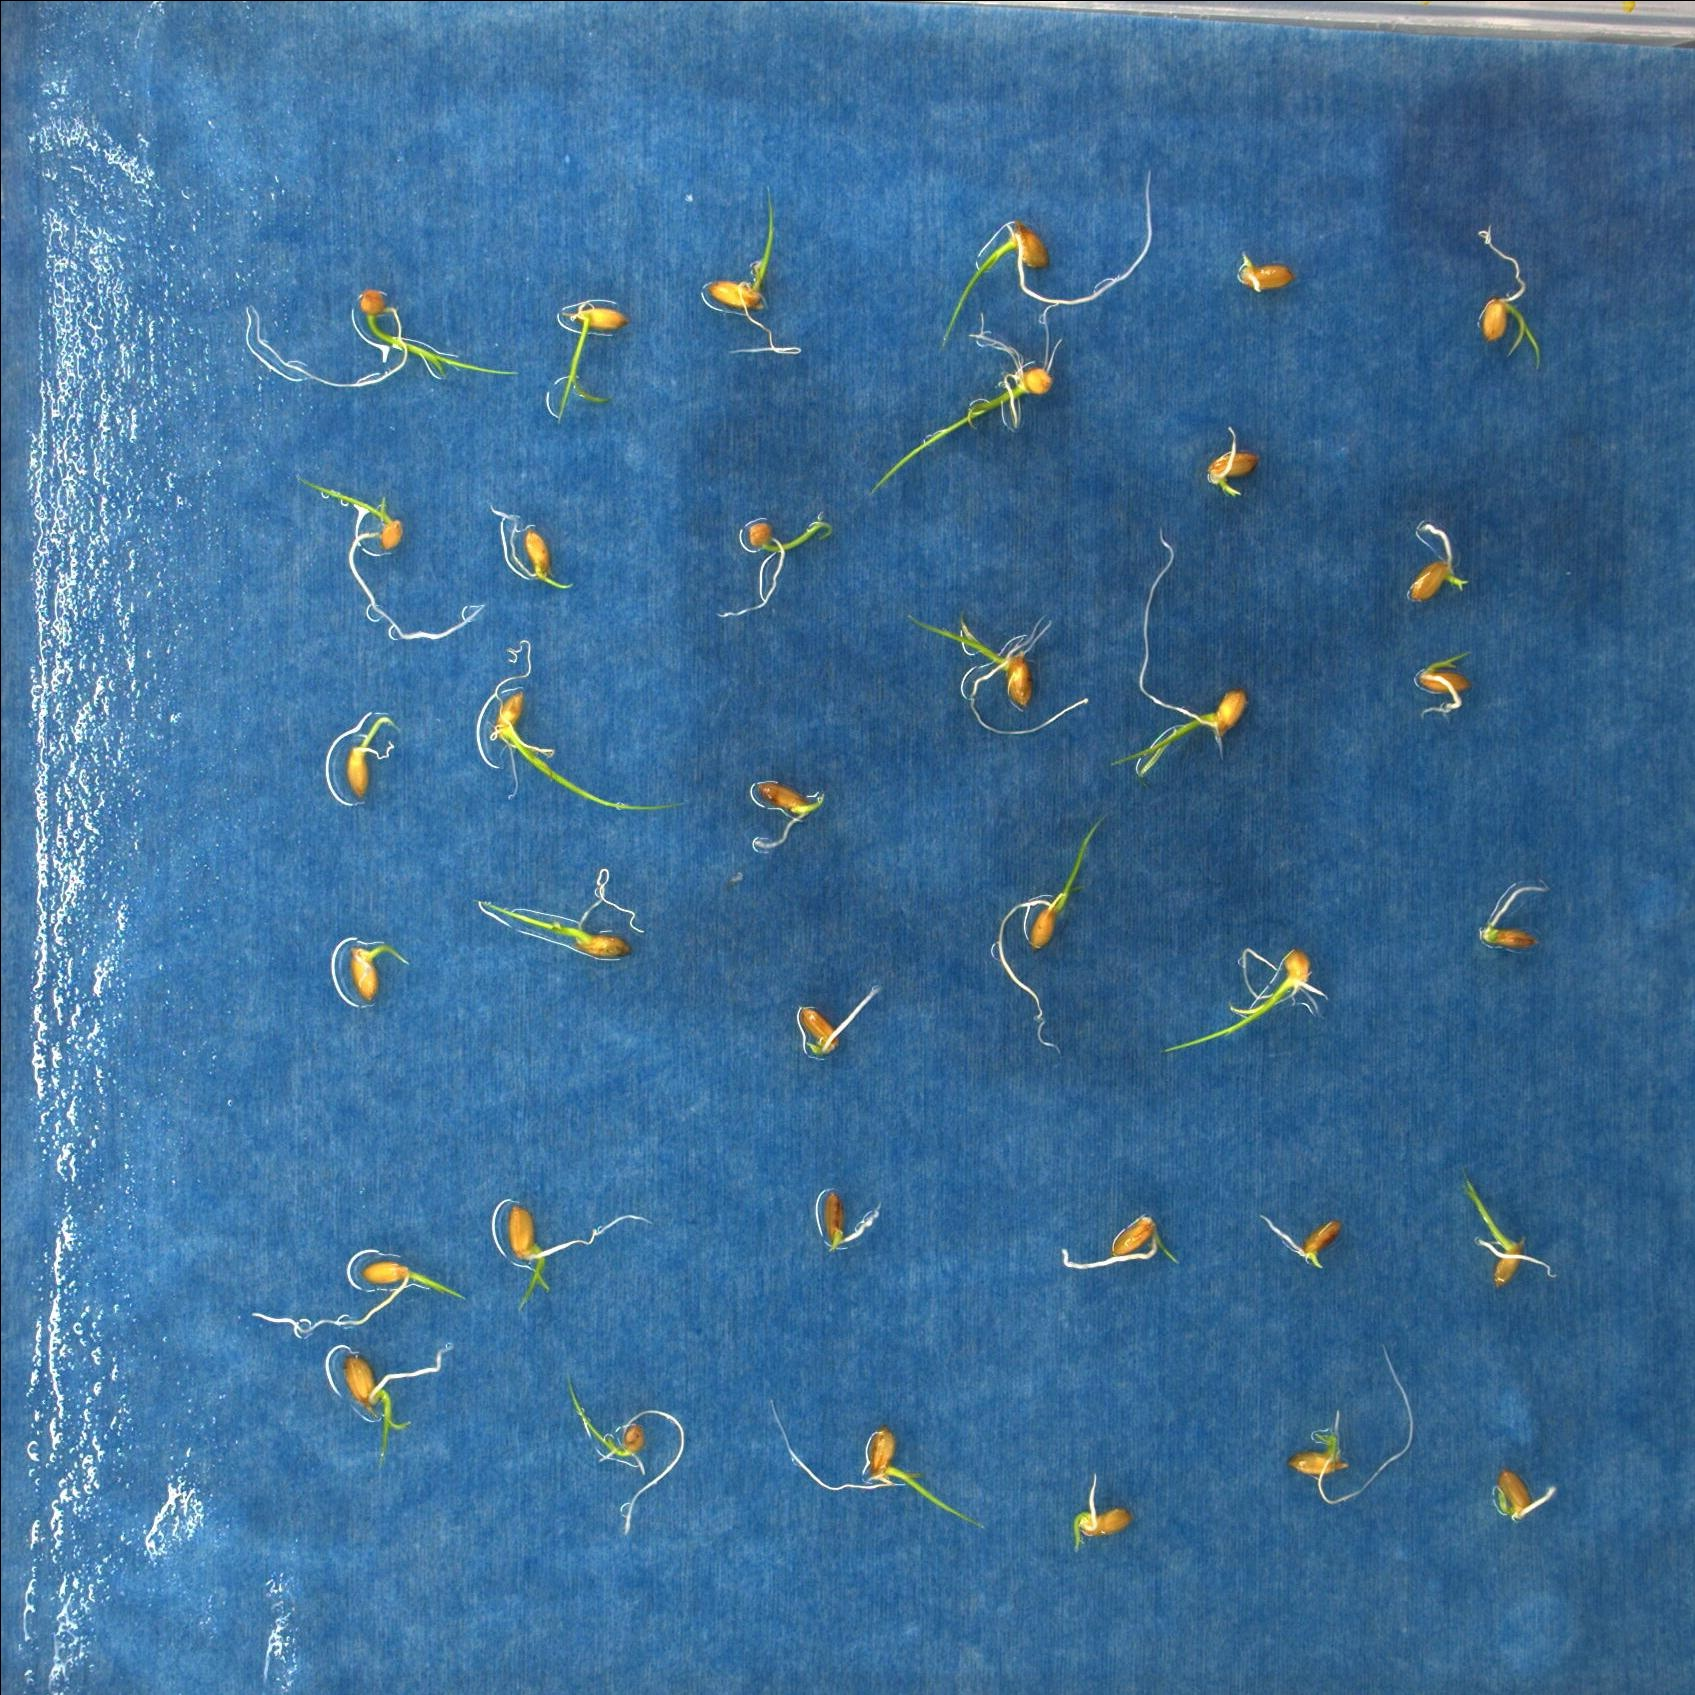not sprout: (1256, 1215, 1346, 1270), (818, 1187, 852, 1256), (1236, 255, 1291, 290)
sprout: (931, 165, 1163, 354), (868, 301, 1069, 498), (477, 636, 692, 812), (289, 467, 489, 647), (1111, 525, 1251, 782), (764, 1394, 992, 1537), (986, 810, 1108, 1052), (237, 289, 523, 390), (906, 608, 1093, 745), (1288, 1343, 1419, 1507), (560, 1372, 689, 1537), (695, 182, 806, 363), (248, 1250, 467, 1338), (1159, 945, 1330, 1055), (504, 1200, 653, 1309), (478, 868, 650, 958), (712, 504, 838, 627), (341, 1347, 449, 1485), (543, 296, 632, 428), (1476, 220, 1549, 376), (1462, 1177, 1563, 1288), (490, 501, 577, 594), (1062, 1212, 1187, 1270), (799, 981, 882, 1062), (1476, 875, 1554, 955), (751, 776, 829, 852), (1405, 520, 1471, 607), (345, 706, 402, 802), (1071, 1470, 1132, 1549), (1412, 646, 1475, 722), (1208, 421, 1260, 500), (349, 941, 411, 1007), (1489, 1467, 1558, 1524)
